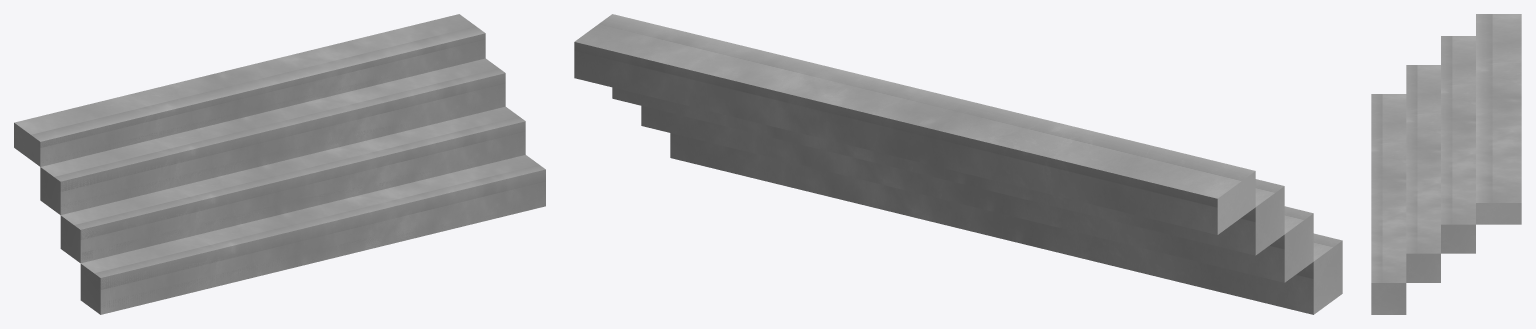
Rendered from outcropC.fbx.
3 renders of one model, left to right at view 1: azimuth 30°, elevation 25°; view 2: azimuth 150°, elevation 25°; view 3: azimuth 270°, elevation 25°, orthographic. The views are drawn at different scales.
Parts seen in each view (by area): view 1: sweep61; view 2: sweep61; view 3: sweep61.
Boxes of the visible parts, x1,y1,x2,y2 form: sweep61: [14, 14, 545, 314]; sweep61: [574, 14, 1342, 314]; sweep61: [1371, 14, 1521, 314].
Size of the model in its own units: 1000 by 277 by 336.
